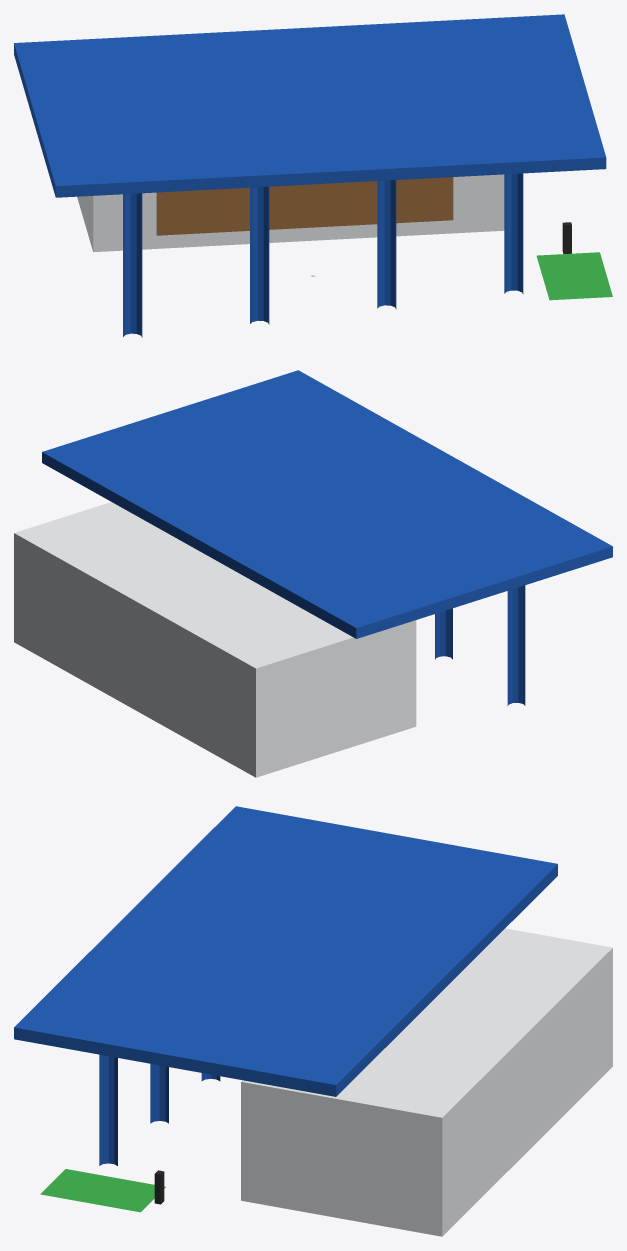
Rendered from noord_bluecanopy.glb.
The picture shows the model from 3 angles, top to bottom: view 1: azimuth 30°, elevation 25°; view 2: azimuth 150°, elevation 25°; view 3: azimuth 270°, elevation 25°; orthographic projection. The views are drawn at different scales.
Visible parts, largest first — view 1: noord_bluecanopy_lod0; view 2: noord_bluecanopy_lod0; view 3: noord_bluecanopy_lod0.
Part boxes in pixels (x1,y1,x2,y2): noord_bluecanopy_lod0: (14,14,612,337); noord_bluecanopy_lod0: (14,370,612,777); noord_bluecanopy_lod0: (14,806,612,1236).
Size of what is drawn, in the model's own units: 30.18 by 9.45 by 27.39.
